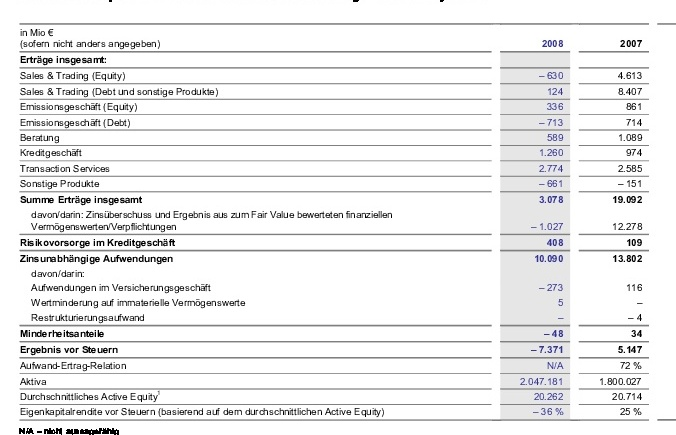table: (0, 0, 676, 435)
